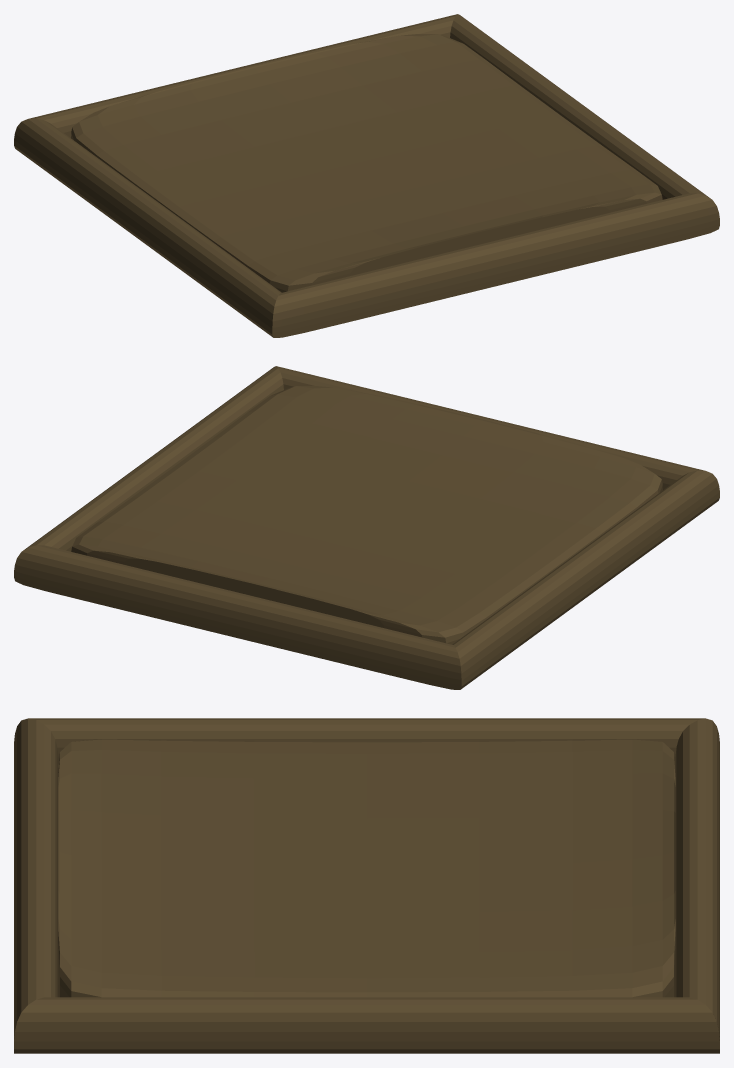
The model's file is Plate_Up.fbx.
3 views of the same model, one above another, from view 1: azimuth 30°, elevation 25°; view 2: azimuth 150°, elevation 25°; view 3: azimuth 270°, elevation 25° (orthographic). The views are drawn at different scales.
Parts seen in each view (by area): view 1: Cube.001; view 2: Cube.001; view 3: Cube.001.
Boxes of the visible parts, x1=… form: Cube.001: x1=14, y1=14, x2=719, y2=337; Cube.001: x1=14, y1=366, x2=719, y2=689; Cube.001: x1=14, y1=718, x2=719, y2=1053.
Size of the model in its own units: 219 by 20.86 by 219.
